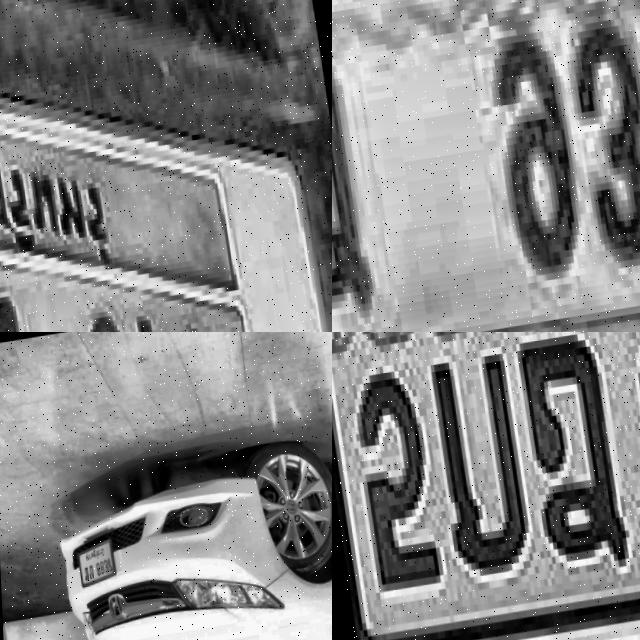license-plate: (0, 0, 332, 332), (332, 0, 640, 332), (332, 332, 640, 640), (63, 528, 123, 593)
